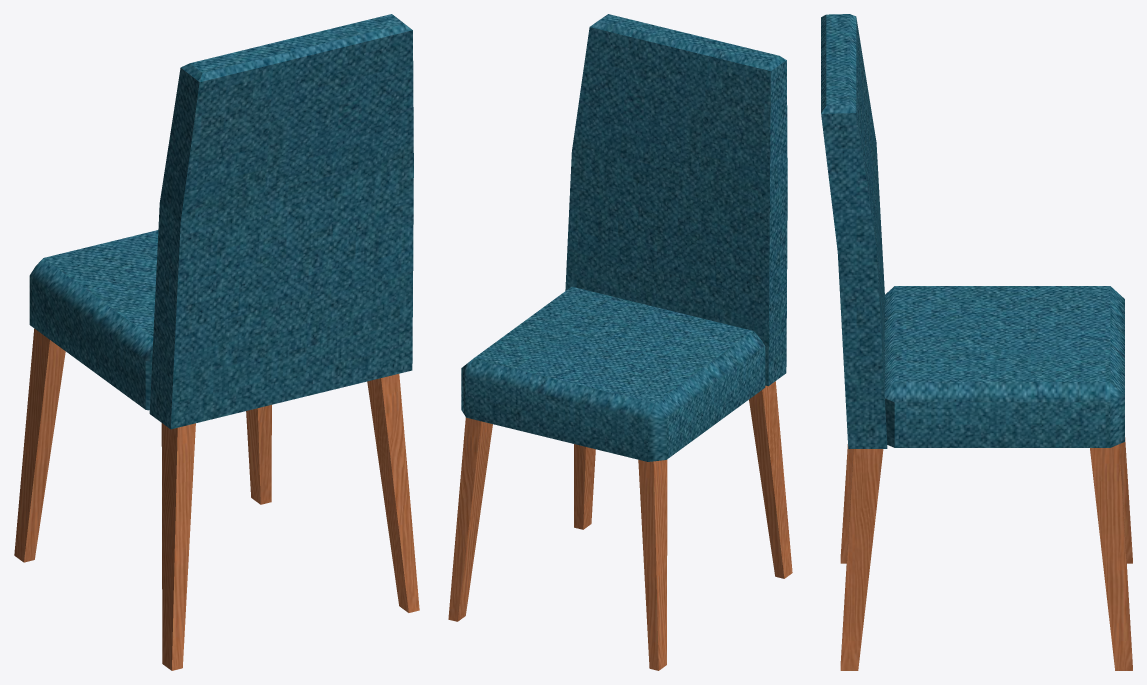
File: FUR0210009.fbx
3 renders of one model, left to right at view 1: azimuth 30°, elevation 25°; view 2: azimuth 150°, elevation 25°; view 3: azimuth 270°, elevation 25°, orthographic. The views are drawn at different scales.
Parts seen in each view (by area): view 1: smFUR0210009; view 2: smFUR0210009; view 3: smFUR0210009.
Part boxes in pixels (<box>): smFUR0210009: <box>14,14,419,670</box>; smFUR0210009: <box>448,14,792,670</box>; smFUR0210009: <box>821,14,1132,670</box>.
Size of the model in its own units: 54.64 by 126 by 64.19.
1 material, 1 textured.
